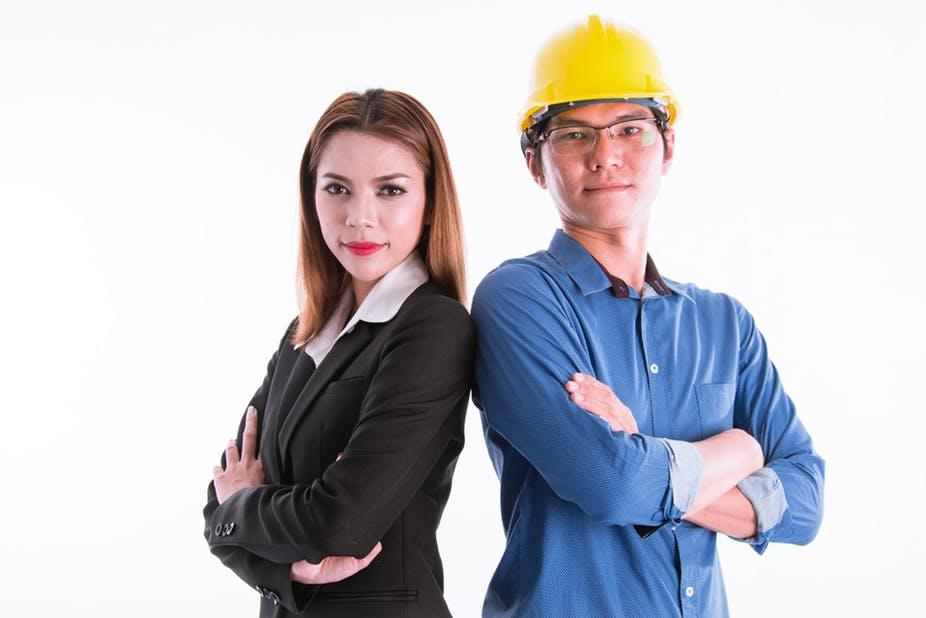helmet: (517, 11, 683, 146)
